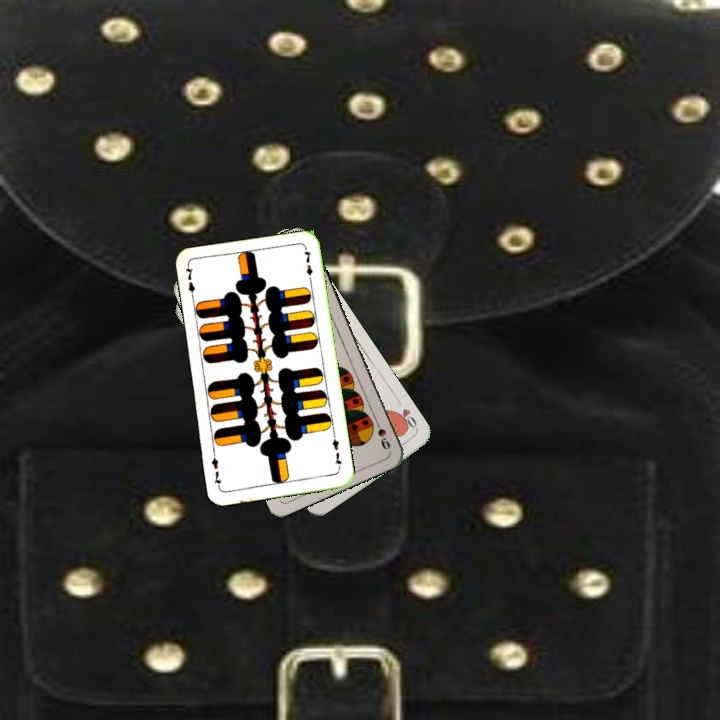E7: (181, 263, 198, 303), (328, 431, 344, 472)
HO: (392, 396, 420, 433)
S9: (370, 414, 393, 453)
